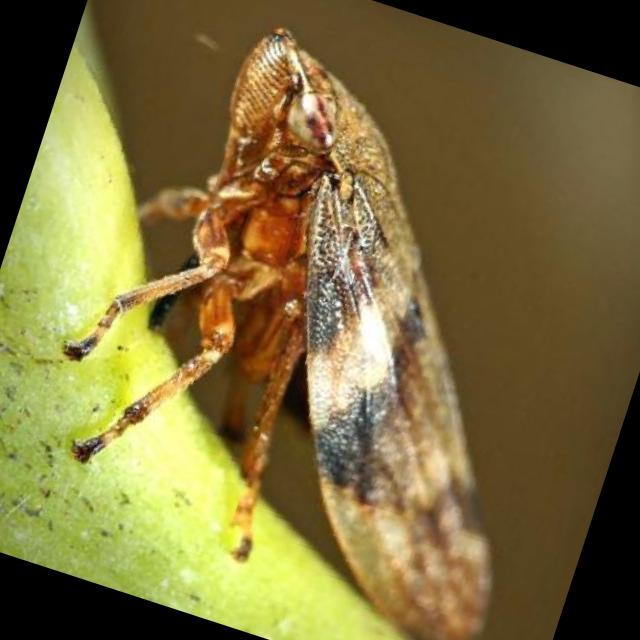brown-planthopper: (190, 33, 491, 640)
